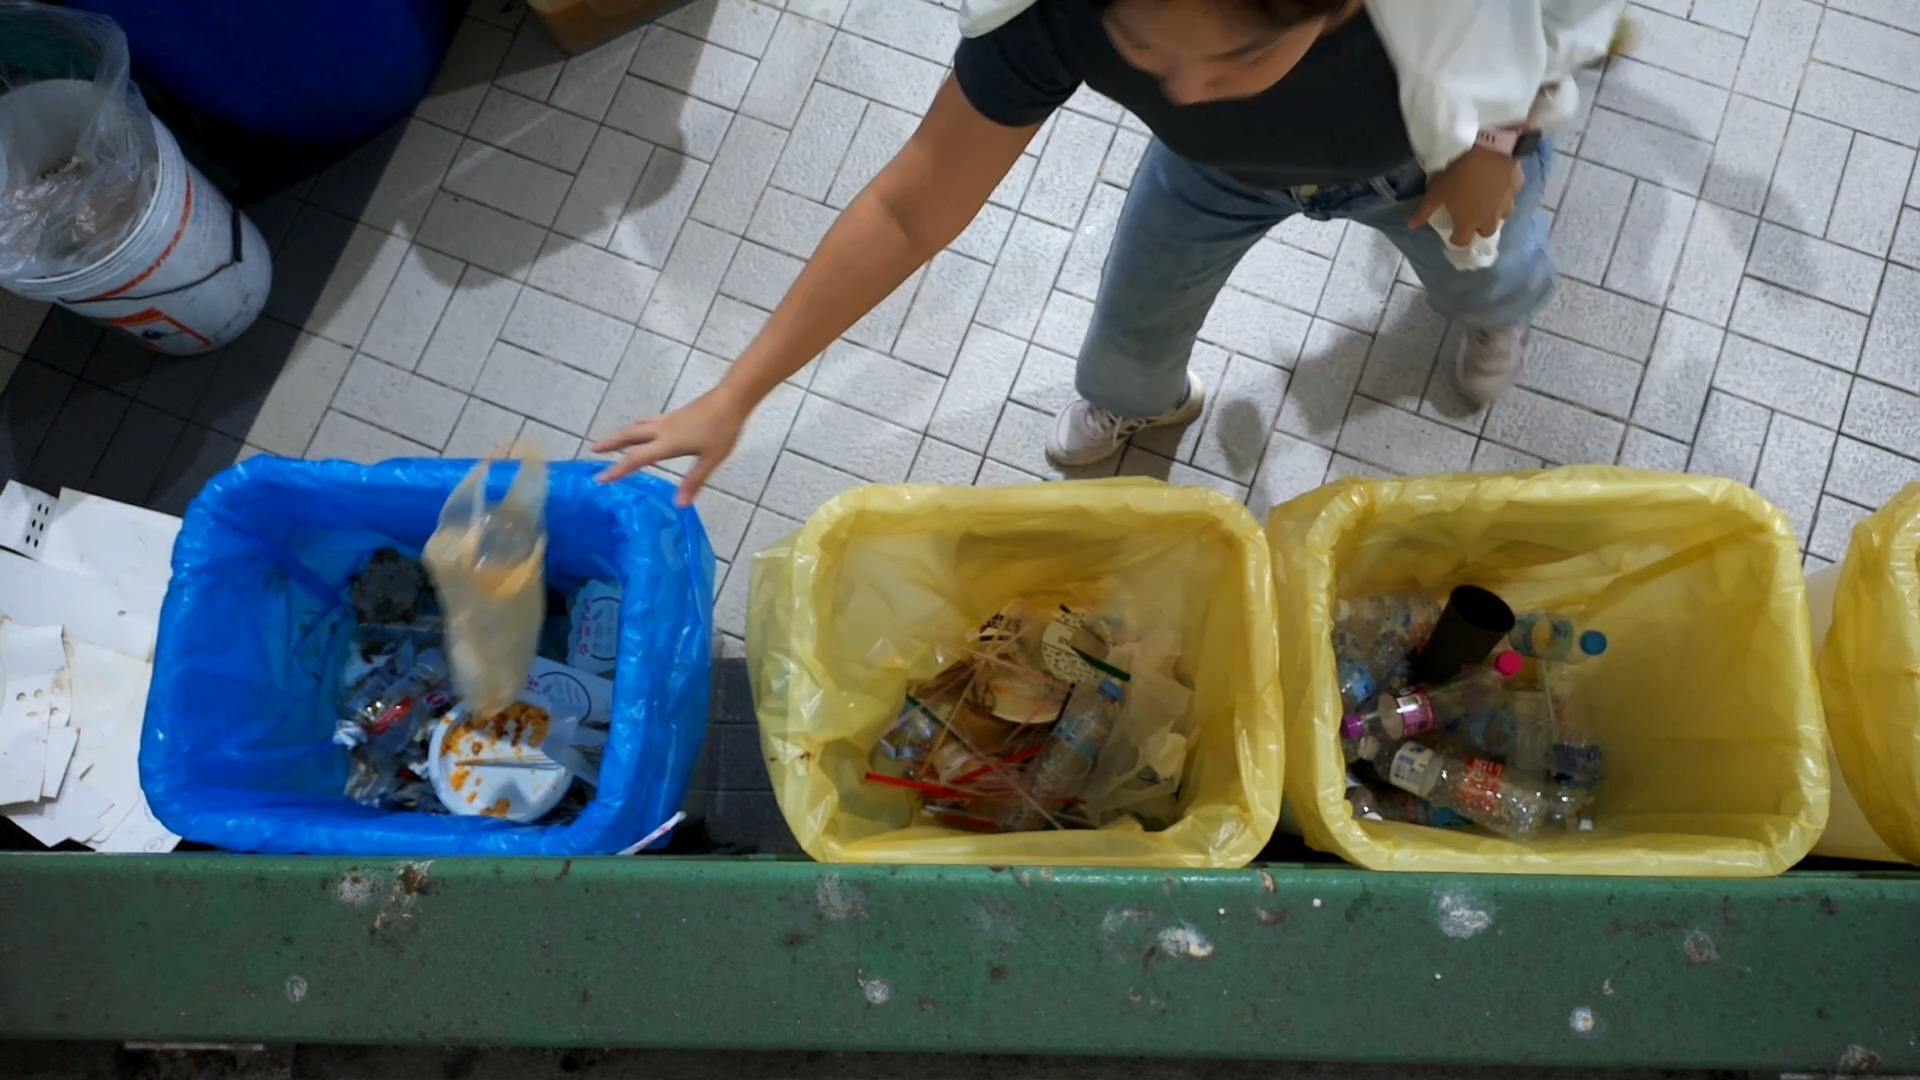dirty food container: (433, 675, 583, 818)
filled plastic bag: (431, 455, 553, 713)
food container: (554, 575, 642, 676)
plastic bag: (1085, 618, 1204, 822)
plastic bottle: (1356, 735, 1551, 847), (1001, 676, 1137, 816), (1337, 673, 1502, 745), (1464, 704, 1606, 785), (1505, 604, 1611, 676), (1335, 587, 1448, 641)
plastic cup: (1400, 585, 1532, 707), (1010, 607, 1121, 687)
snack packaging: (339, 637, 450, 736)
straw: (914, 596, 1026, 783), (943, 698, 1080, 836), (853, 766, 993, 808), (1025, 679, 1073, 781), (947, 740, 1048, 785), (1073, 632, 1147, 670)
tissue paper: (1145, 736, 1192, 794)
